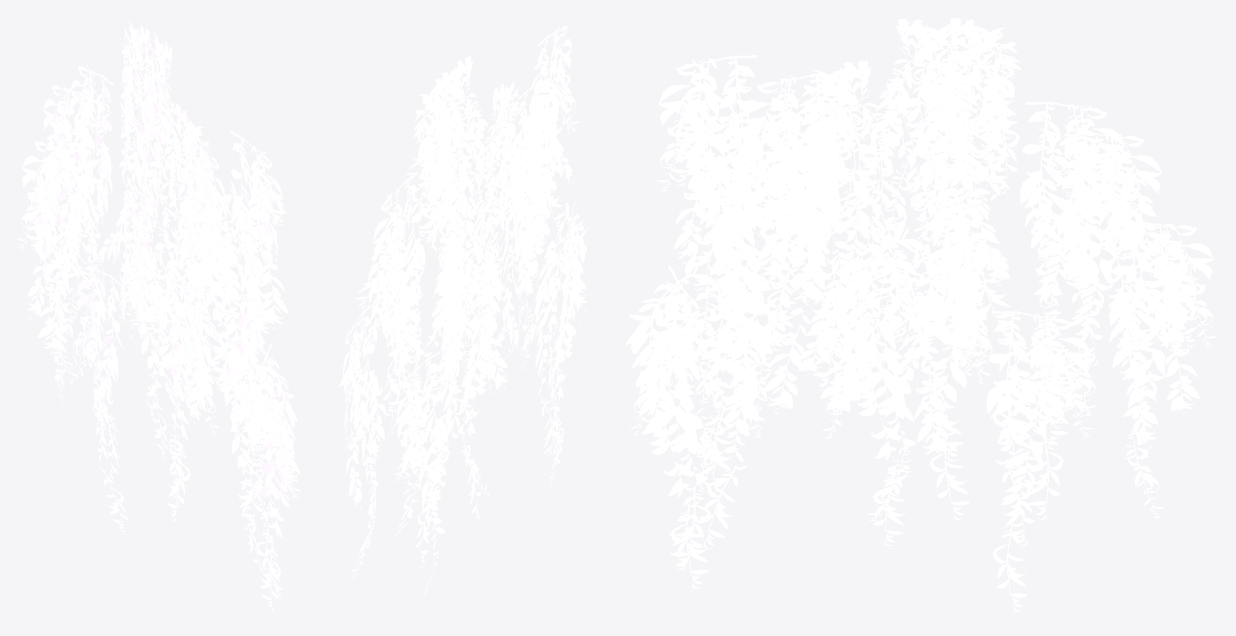
3 renders of one model, left to right at view 1: azimuth 30°, elevation 25°; view 2: azimuth 150°, elevation 25°; view 3: azimuth 270°, elevation 25°, orthographic. The views are drawn at different scales.
Parts seen in each view (by area): view 1: SM_FH_Climbing_A_08_LOD0; view 2: SM_FH_Climbing_A_08_LOD0; view 3: SM_FH_Climbing_A_08_LOD0.
Boxes of the visible parts, x1,y1,x2,y2 form: SM_FH_Climbing_A_08_LOD0: (17,20,301,617); SM_FH_Climbing_A_08_LOD0: (338,24,587,599); SM_FH_Climbing_A_08_LOD0: (625,18,1216,618).
Size of the model in its own units: 0.7971 by 5.72 by 5.15.
1 material, 1 textured.
